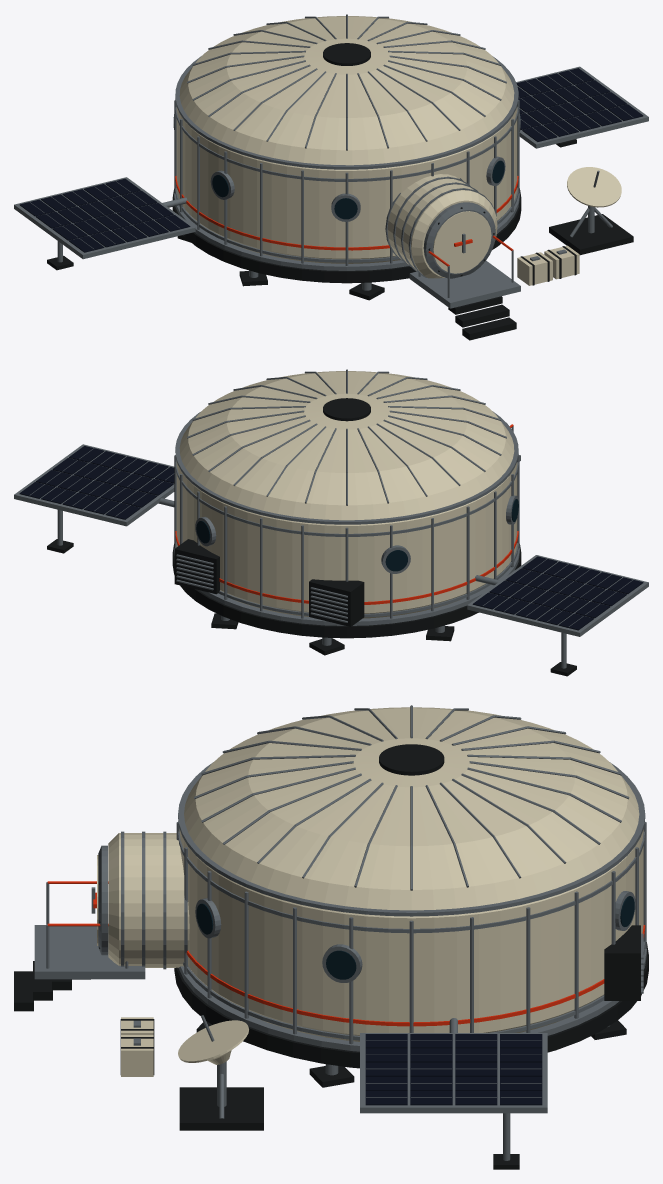
File: hab.glb
3 renders of one model, top to bottom at view 1: azimuth 30°, elevation 25°; view 2: azimuth 150°, elevation 25°; view 3: azimuth 270°, elevation 25°, orthographic. The views are drawn at different scales.
Parts seen in each view (by area): view 1: HAB — surface habitat; view 2: HAB — surface habitat; view 3: HAB — surface habitat.
Boxes of the visible parts, box(x1,y1,x2,y2) form: HAB — surface habitat: box(14, 14, 648, 340); HAB — surface habitat: box(14, 369, 648, 676); HAB — surface habitat: box(14, 705, 648, 1169).
Size of the model in its own units: 16.86 by 5 by 12.04.
